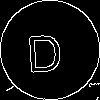D: (25, 25, 64, 73)
